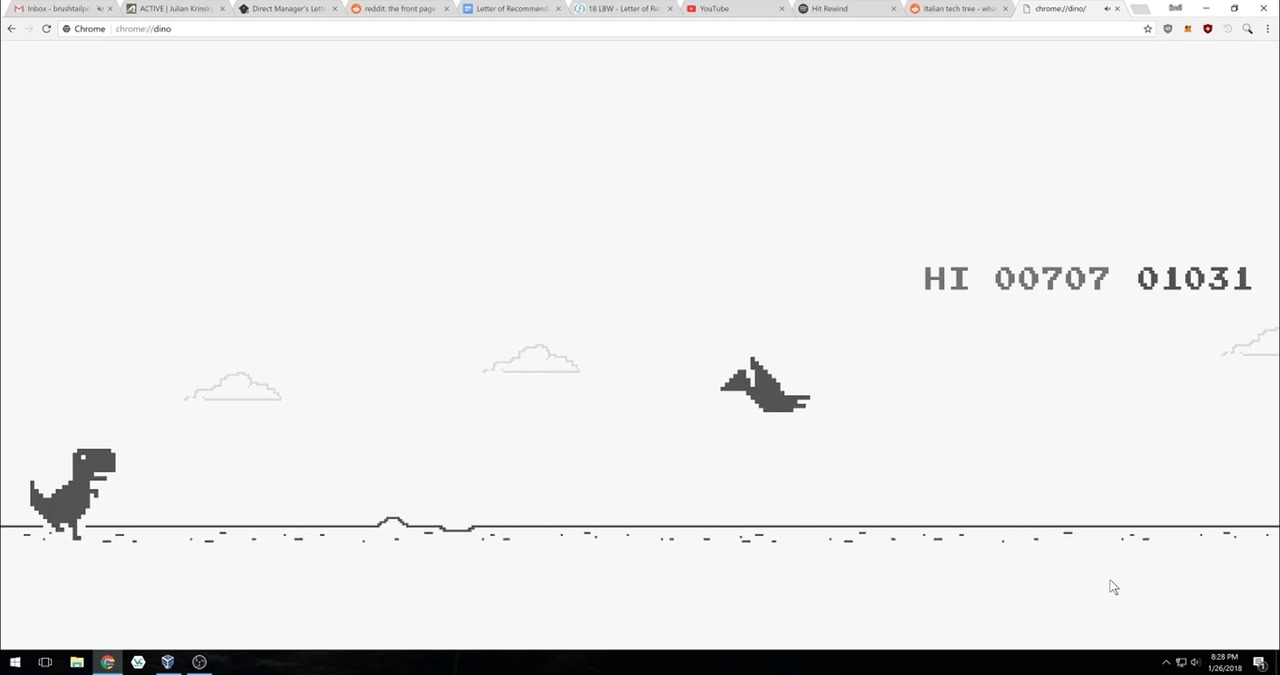bird: (717, 353, 814, 417)
dinosaur: (27, 446, 118, 543)
